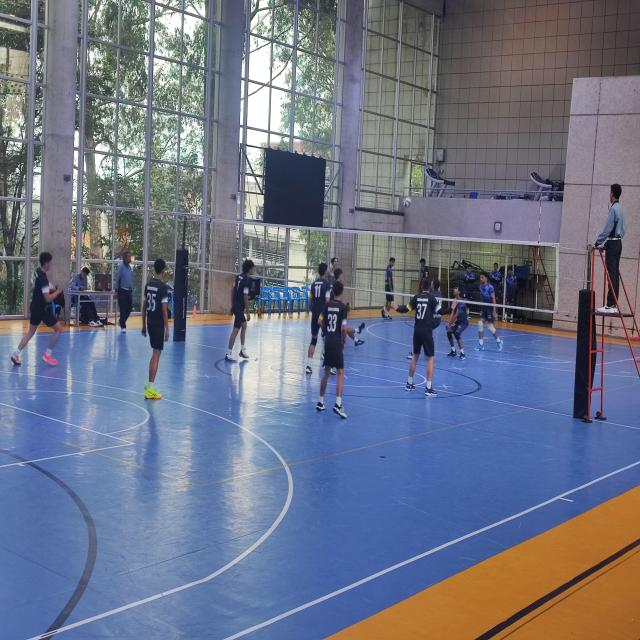volleyball: (403, 196, 411, 208)
